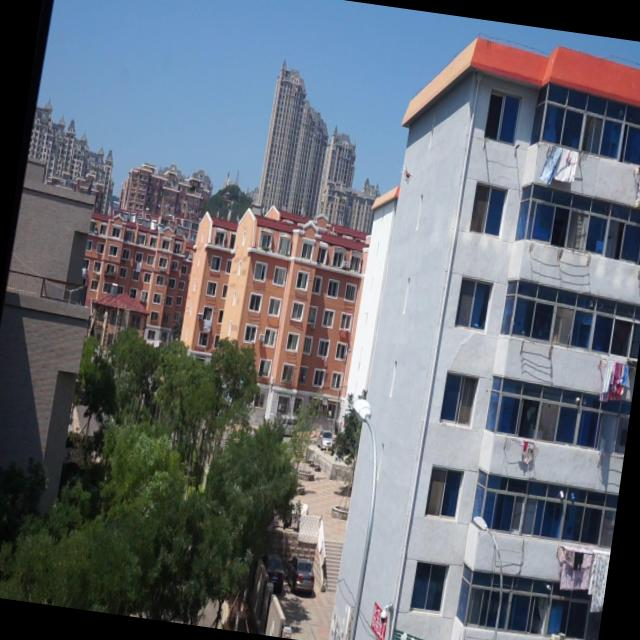drone: (400, 166, 414, 184)
